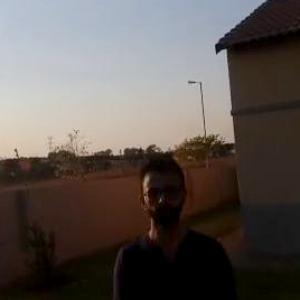follow: (107, 149, 243, 299)
